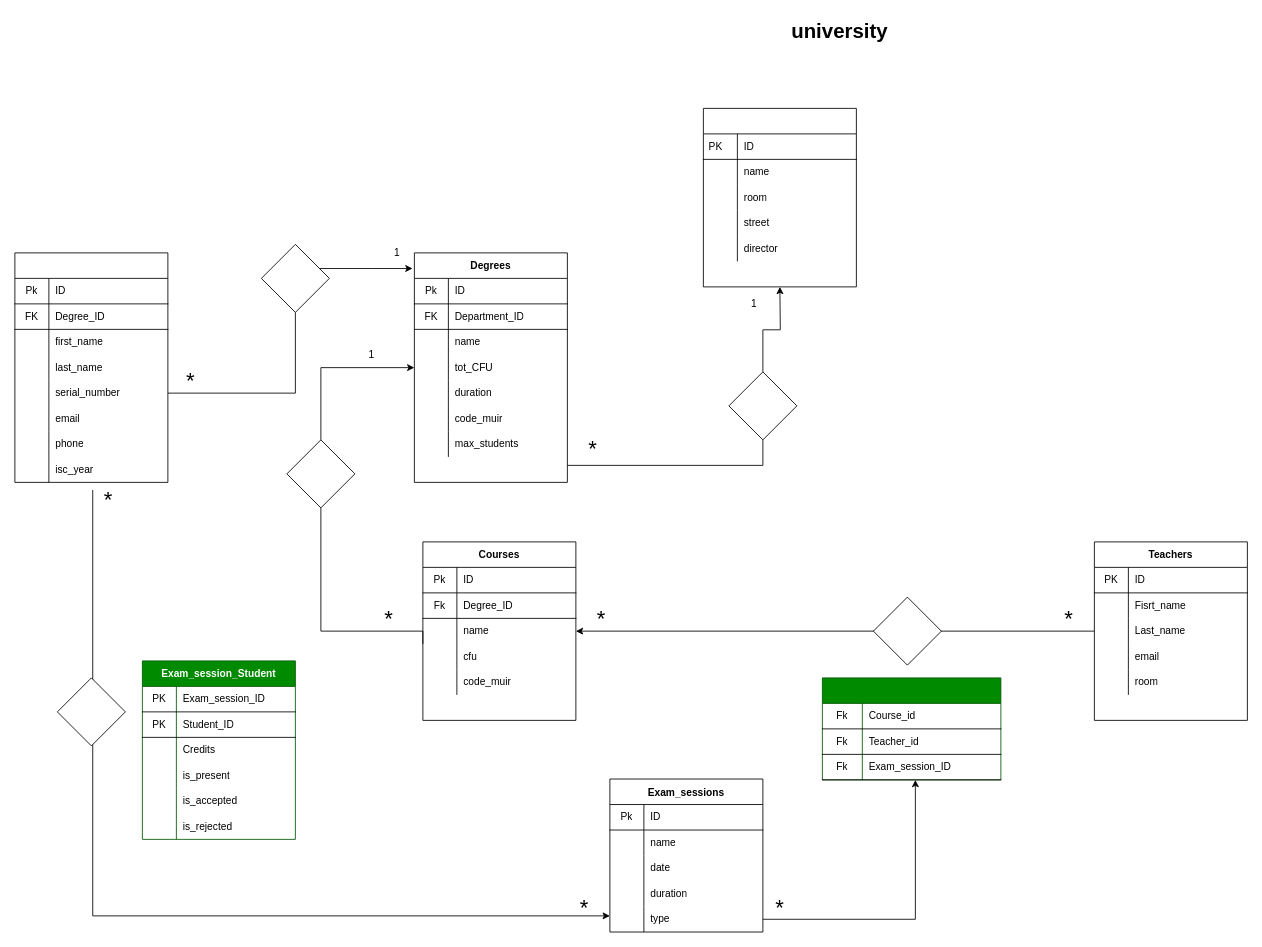
The diagram is 1262 pixels wide and 947 high, and some of its shapes have lost their labels. The shapes that lost their labels are listed below. From the top down, each one's box as (x1, y1, x2, y2) in pixels, then its label:
(703, 108, 856, 287): Departments
(14, 252, 168, 482): Students
(822, 677, 1001, 780): Course_Exam_session_Teacher
